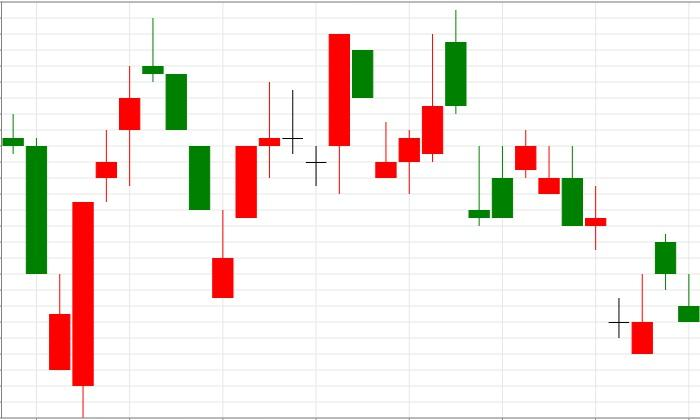evening_star_fall: (49, 17, 186, 418)
inverse_hammer_rise: (515, 130, 653, 354)
